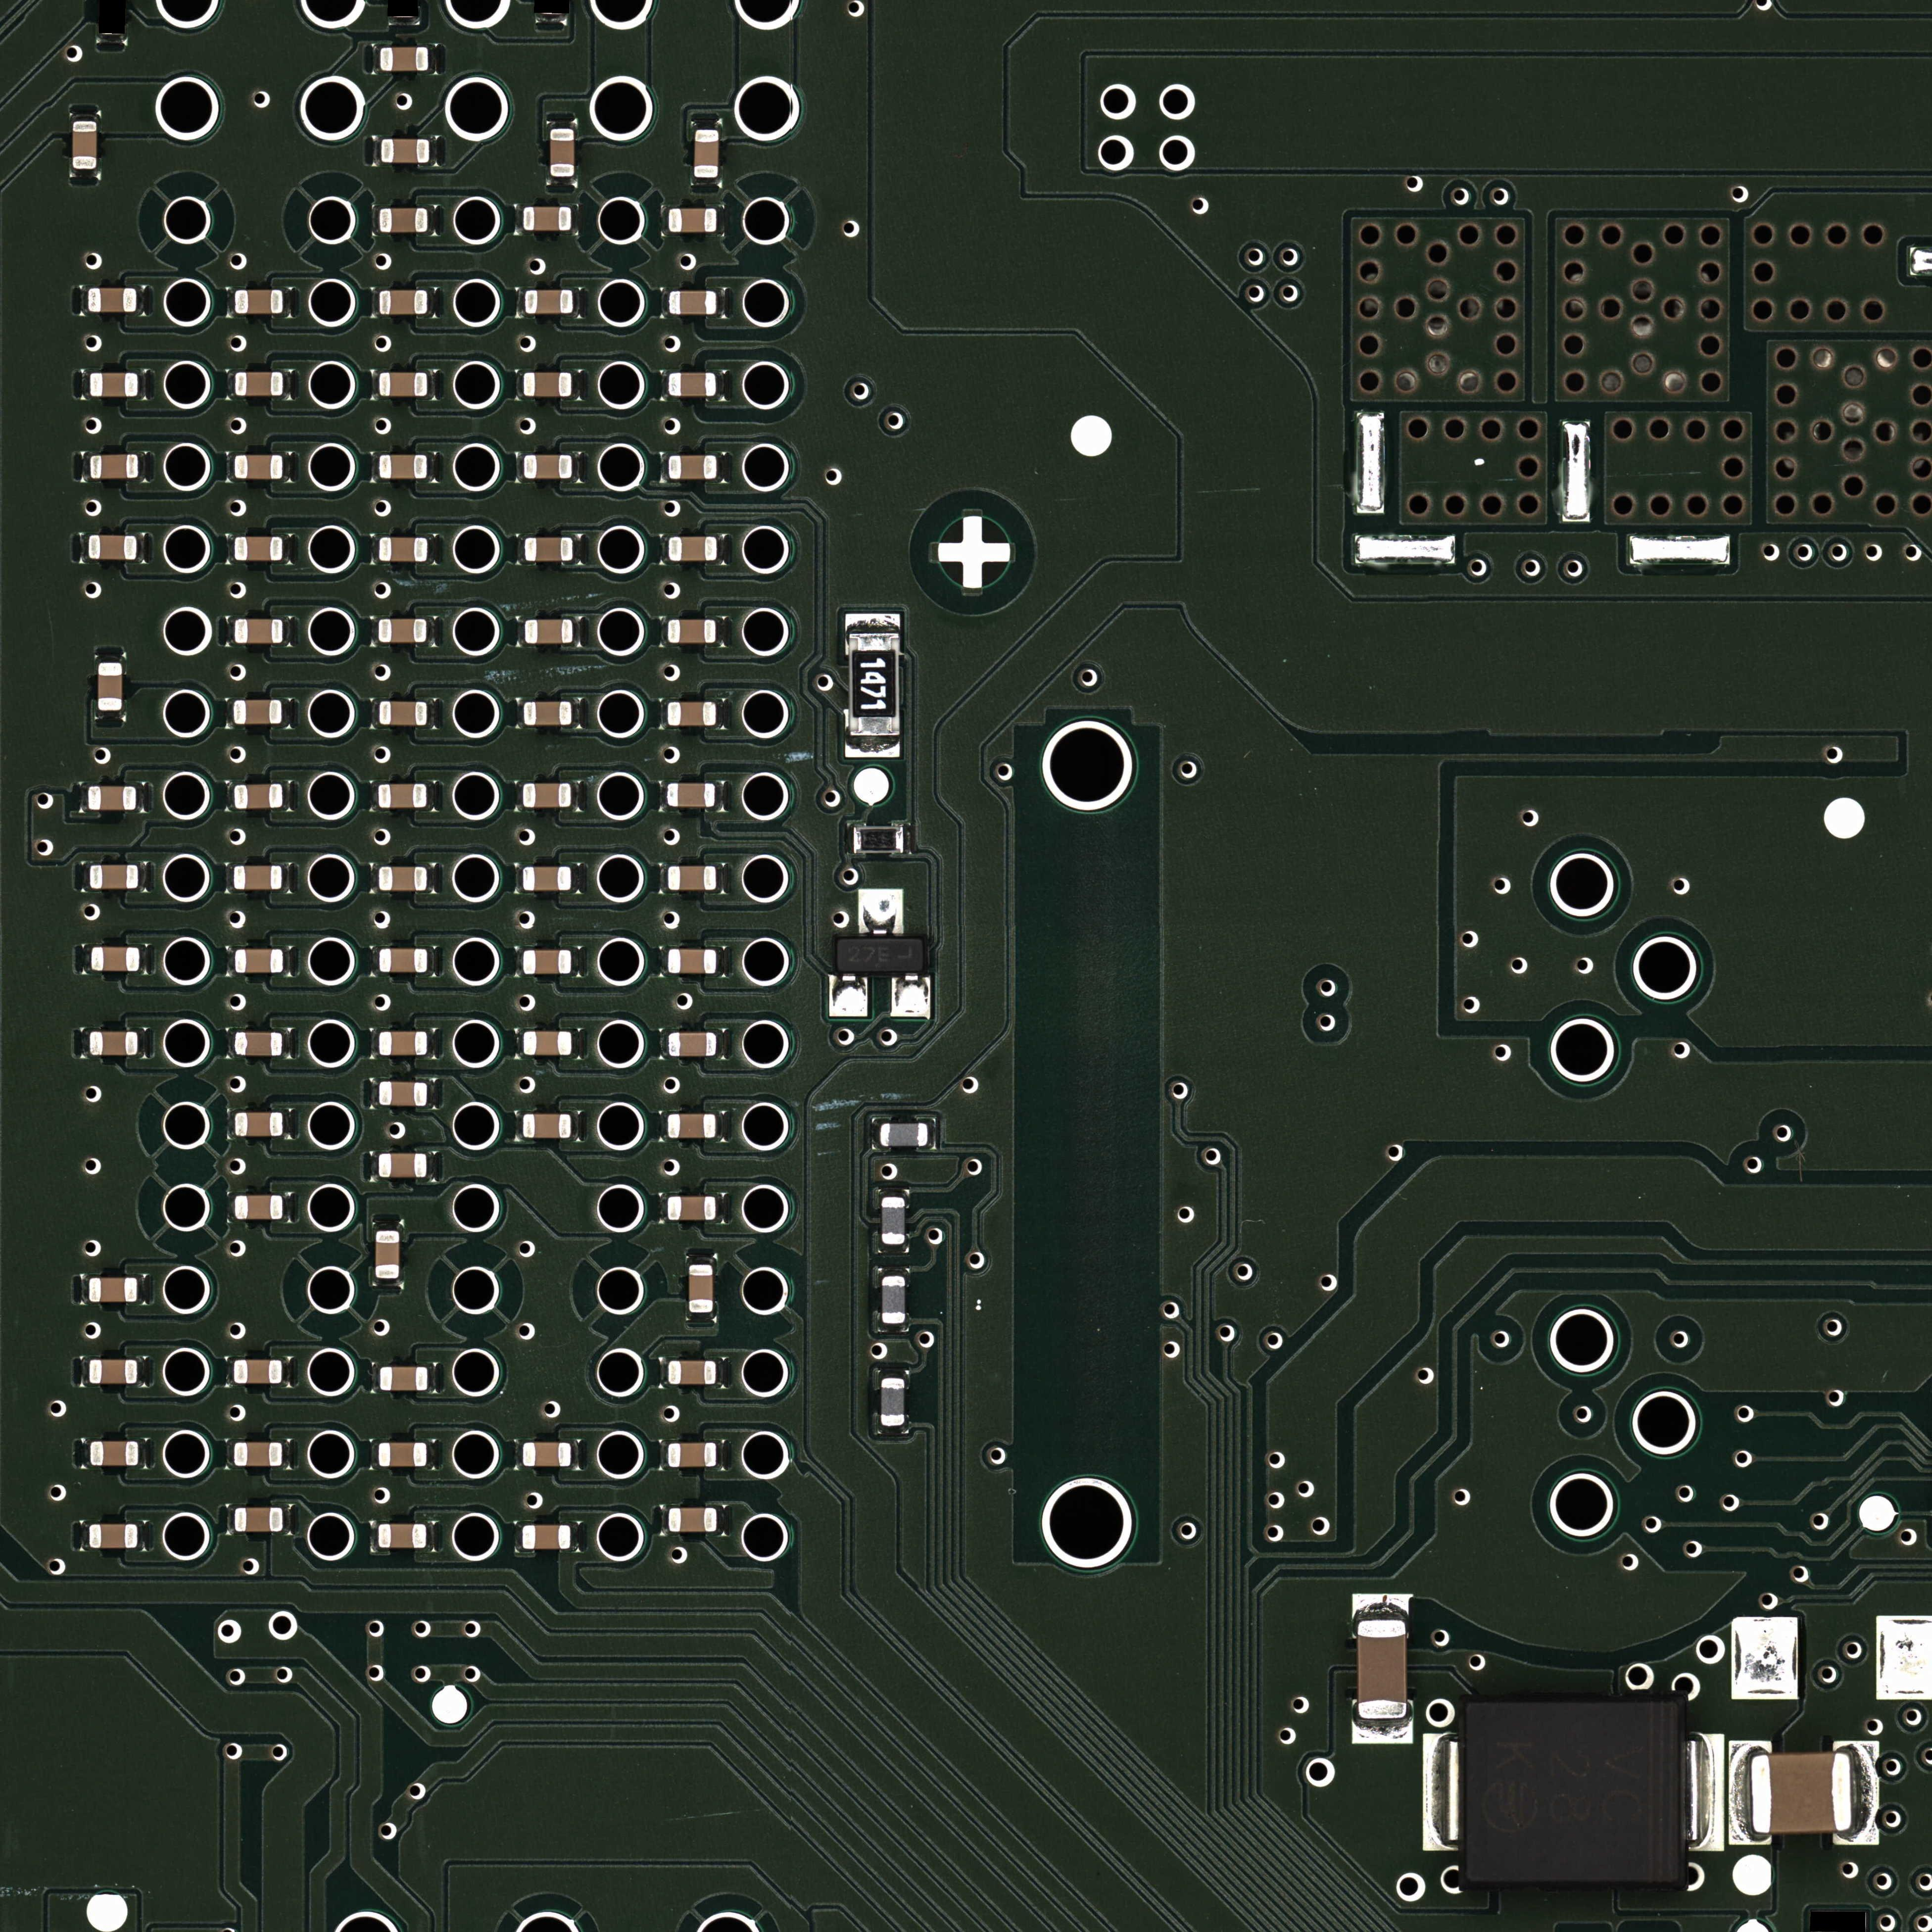Package: (1466, 1700, 1679, 1884), (1750, 1753, 1852, 1833), (847, 633, 900, 736), (1357, 1620, 1406, 1719), (835, 936, 926, 973), (853, 827, 904, 853), (89, 1277, 138, 1303), (667, 1113, 716, 1139), (234, 619, 283, 644), (90, 1441, 139, 1466), (234, 784, 283, 809), (668, 1443, 717, 1467), (90, 454, 139, 479), (668, 536, 717, 561), (379, 372, 428, 397), (523, 783, 572, 808), (381, 139, 430, 163), (523, 950, 572, 974), (234, 1507, 283, 1532), (234, 455, 283, 480), (88, 786, 137, 811), (379, 208, 428, 233), (233, 700, 282, 724), (379, 537, 428, 562), (667, 1196, 716, 1221), (523, 1113, 572, 1138), (668, 949, 717, 974), (88, 535, 137, 560), (668, 1507, 717, 1532), (378, 1524, 427, 1548), (89, 1359, 138, 1384), (91, 947, 140, 971), (235, 1112, 283, 1137), (89, 1524, 138, 1548), (235, 372, 283, 396), (235, 1195, 283, 1220), (88, 288, 137, 312), (379, 1081, 427, 1106), (379, 290, 428, 315), (379, 867, 427, 891), (522, 1525, 571, 1549), (525, 290, 573, 314), (667, 702, 717, 726), (235, 949, 283, 973), (378, 783, 427, 808), (379, 948, 428, 973), (550, 128, 575, 177), (523, 1442, 571, 1467), (523, 372, 572, 397), (523, 1031, 572, 1056), (90, 865, 139, 889), (667, 783, 716, 807), (668, 455, 717, 480), (234, 1442, 283, 1466), (668, 866, 717, 890), (97, 662, 122, 711), (668, 372, 716, 397), (379, 454, 427, 479), (694, 130, 719, 178), (379, 1153, 427, 1178), (72, 121, 97, 169), (525, 619, 573, 644), (380, 47, 429, 71), (90, 373, 138, 397), (234, 536, 283, 561), (525, 537, 573, 562), (689, 1264, 713, 1313), (378, 619, 427, 643), (379, 1443, 427, 1467), (523, 867, 571, 891), (524, 455, 572, 479), (235, 290, 283, 314), (234, 866, 282, 890), (379, 1031, 427, 1056), (524, 701, 572, 725), (234, 1359, 282, 1384), (668, 619, 716, 643), (668, 208, 717, 233), (668, 1032, 717, 1057), (375, 1230, 399, 1279), (90, 1031, 138, 1056), (669, 290, 717, 315), (668, 1360, 716, 1385), (379, 701, 427, 725), (523, 206, 571, 231), (880, 1378, 905, 1426), (881, 1276, 906, 1324), (235, 1032, 282, 1056), (881, 1197, 905, 1245), (380, 1367, 428, 1391), (880, 1123, 928, 1147)
Solder: (1680, 1733, 1725, 1851), (1423, 1734, 1465, 1851), (1852, 1740, 1879, 1845), (1729, 1740, 1750, 1845), (858, 889, 903, 934), (891, 975, 931, 1018), (829, 974, 868, 1017), (1352, 1719, 1413, 1744), (1352, 1594, 1409, 1620), (845, 737, 900, 758), (845, 614, 900, 632), (534, 14, 568, 25), (96, 35, 128, 45), (546, 177, 578, 187), (691, 120, 722, 129), (572, 1439, 581, 1470), (369, 1078, 379, 1109), (95, 653, 126, 662), (876, 1324, 909, 1333), (388, 17, 421, 25), (373, 1221, 404, 1230), (427, 1151, 436, 1182), (428, 1078, 436, 1109), (876, 1369, 909, 1378), (877, 1245, 909, 1254), (877, 1267, 910, 1275), (686, 1255, 717, 1264), (369, 1151, 378, 1181), (429, 44, 438, 74), (928, 1118, 936, 1150), (283, 1356, 291, 1386), (716, 780, 724, 812), (138, 1273, 146, 1304), (69, 170, 100, 178), (427, 1521, 435, 1552), (691, 178, 722, 187), (79, 532, 88, 563), (547, 120, 578, 128), (138, 285, 146, 316), (659, 1357, 668, 1388), (717, 1357, 725, 1388), (717, 1193, 725, 1223), (428, 1028, 436, 1059), (574, 533, 582, 564), (371, 1362, 379, 1393), (572, 946, 580, 977), (717, 1111, 725, 1142), (573, 370, 581, 400), (428, 616, 436, 647), (283, 780, 291, 811), (373, 1279, 403, 1287), (226, 287, 235, 317), (573, 698, 581, 728), (226, 946, 235, 976), (516, 288, 524, 318), (428, 863, 436, 893), (514, 204, 523, 235), (428, 781, 436, 811), (370, 946, 379, 976), (572, 863, 580, 893), (284, 287, 292, 317), (428, 1439, 436, 1469), (283, 533, 291, 564), (877, 1189, 909, 1197), (877, 1427, 909, 1435), (571, 1521, 579, 1552), (226, 616, 234, 646), (283, 698, 291, 728), (845, 823, 853, 854), (70, 112, 101, 120), (717, 1028, 725, 1060), (81, 1356, 89, 1387), (572, 780, 580, 812), (225, 1439, 234, 1468), (373, 136, 381, 166), (95, 712, 125, 720), (225, 698, 233, 728), (82, 451, 90, 482), (660, 1029, 668, 1060), (80, 1274, 88, 1305), (370, 1028, 378, 1059), (659, 1193, 667, 1223), (284, 1504, 291, 1535), (717, 863, 725, 894), (872, 1118, 880, 1149), (718, 288, 725, 318), (717, 946, 725, 977), (428, 698, 436, 729), (572, 1028, 580, 1059), (717, 370, 725, 401), (428, 946, 436, 976), (573, 452, 580, 483), (717, 616, 725, 647), (428, 452, 436, 483), (717, 698, 725, 729), (429, 1362, 436, 1393), (283, 1028, 291, 1059), (139, 1438, 147, 1468), (660, 452, 668, 483), (81, 1028, 89, 1058), (225, 863, 233, 893), (659, 864, 667, 894), (226, 781, 234, 811), (370, 864, 378, 894), (82, 1438, 90, 1468), (225, 1356, 233, 1387), (81, 1521, 89, 1551), (659, 1440, 667, 1470), (515, 947, 523, 977), (574, 617, 581, 647), (370, 781, 378, 811), (371, 452, 379, 482), (574, 288, 581, 318), (429, 205, 436, 236), (429, 534, 436, 564), (428, 370, 436, 400), (660, 534, 668, 565), (284, 946, 291, 976), (284, 452, 291, 482), (660, 205, 668, 235), (686, 1313, 716, 1321), (83, 944, 91, 974), (659, 947, 667, 976), (226, 1028, 234, 1058), (226, 452, 234, 482), (370, 1440, 378, 1469), (718, 1504, 725, 1536), (370, 617, 378, 646), (514, 1440, 522, 1469), (661, 288, 669, 318), (371, 699, 379, 728), (429, 288, 436, 317), (284, 1192, 291, 1222), (284, 1109, 291, 1139), (284, 370, 291, 399), (516, 534, 524, 564), (283, 863, 290, 893), (283, 1439, 291, 1469), (227, 1504, 234, 1535), (139, 1027, 146, 1059), (717, 1440, 724, 1471), (370, 1521, 378, 1552), (718, 533, 725, 565), (718, 452, 725, 483), (372, 44, 380, 74), (718, 205, 725, 236), (659, 1111, 667, 1142), (139, 862, 146, 892), (138, 532, 145, 563), (430, 136, 437, 166), (137, 782, 145, 813), (572, 1111, 580, 1141), (138, 1356, 145, 1387), (660, 1505, 668, 1536), (82, 862, 90, 892), (82, 370, 89, 400), (659, 781, 667, 811), (227, 1109, 234, 1139), (227, 1192, 234, 1222), (371, 288, 379, 318), (572, 204, 579, 234), (371, 370, 379, 400), (660, 616, 667, 646), (371, 534, 378, 564), (80, 286, 87, 316), (80, 782, 87, 813), (226, 534, 234, 564), (515, 781, 522, 811), (515, 864, 522, 894), (284, 616, 291, 646), (904, 823, 911, 855), (515, 1029, 523, 1059), (659, 699, 667, 728), (516, 453, 523, 482), (517, 617, 524, 646), (227, 370, 234, 399), (140, 943, 147, 974), (515, 1521, 522, 1552), (139, 1520, 145, 1551), (139, 369, 146, 400), (139, 451, 146, 482), (372, 205, 379, 235), (516, 698, 523, 728), (515, 1111, 522, 1141), (516, 370, 523, 399)
